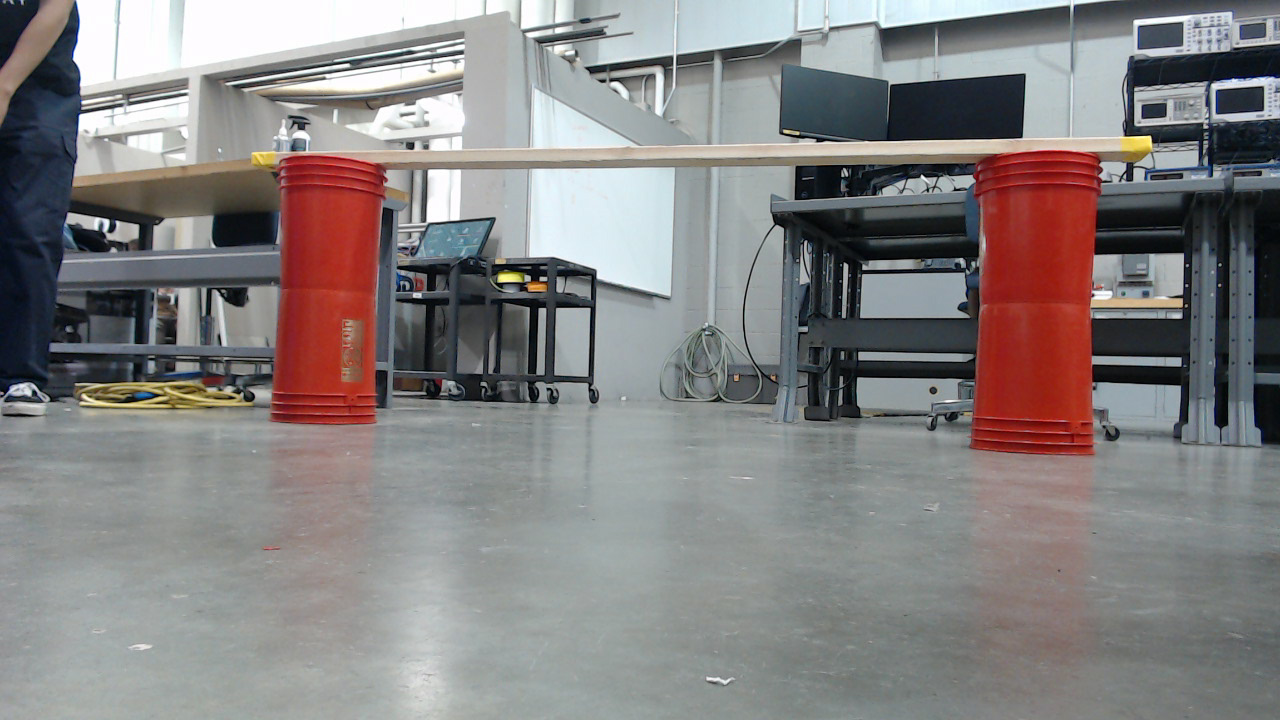red_bucket_arch: (269, 139, 1111, 467)
